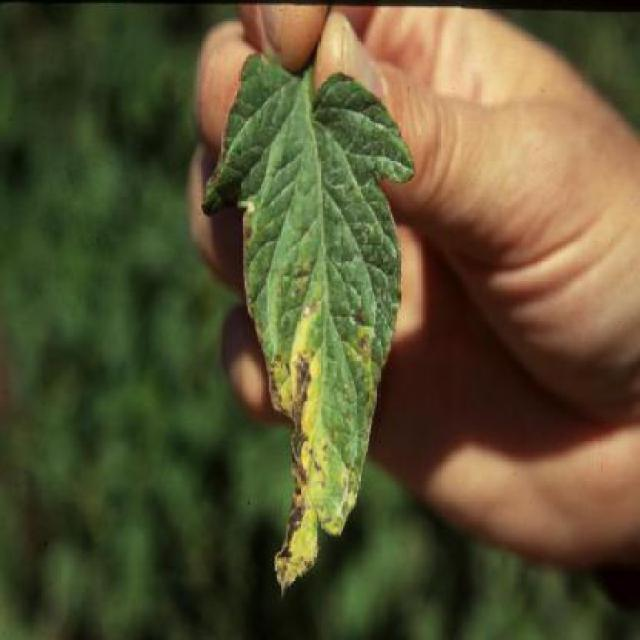Tomato late blight leaf: (200, 36, 420, 604)
